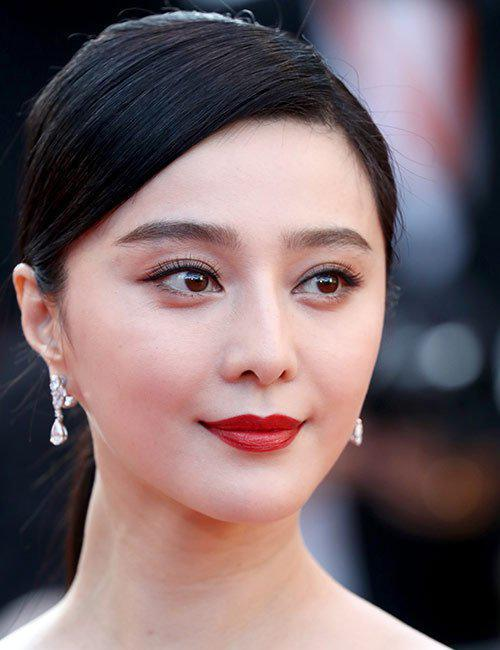Sober: (105, 142, 360, 505)
